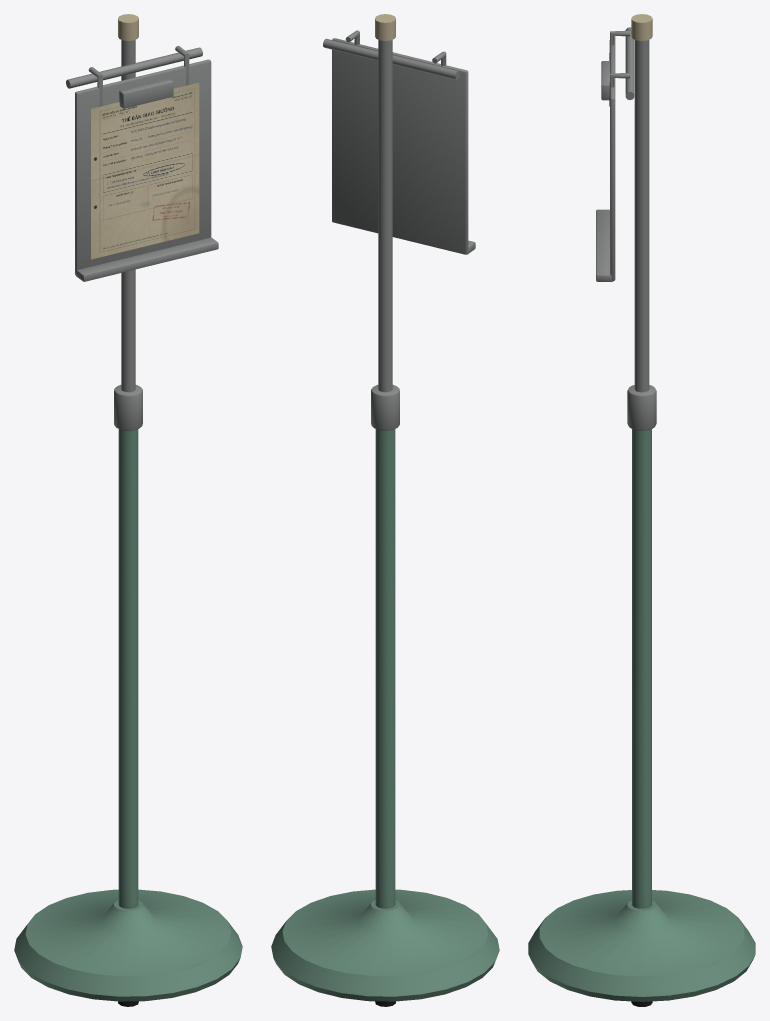
File: CTCC_PROP_Bed4ChartHolder.fbx
3 renders of one model, left to right at view 1: azimuth 30°, elevation 25°; view 2: azimuth 150°, elevation 25°; view 3: azimuth 270°, elevation 25°, orthographic.
Visible parts, largest first — view 1: CTCC_PROP_Bed4ChartHolder; view 2: CTCC_PROP_Bed4ChartHolder; view 3: CTCC_PROP_Bed4ChartHolder.
Part boxes in pixels (<box>): CTCC_PROP_Bed4ChartHolder: <box>14,14,242,1006</box>; CTCC_PROP_Bed4ChartHolder: <box>271,14,499,1006</box>; CTCC_PROP_Bed4ChartHolder: <box>528,14,755,1006</box>.
Bounding box in the file's own units: 0.344 × 1.57 × 0.3415.
